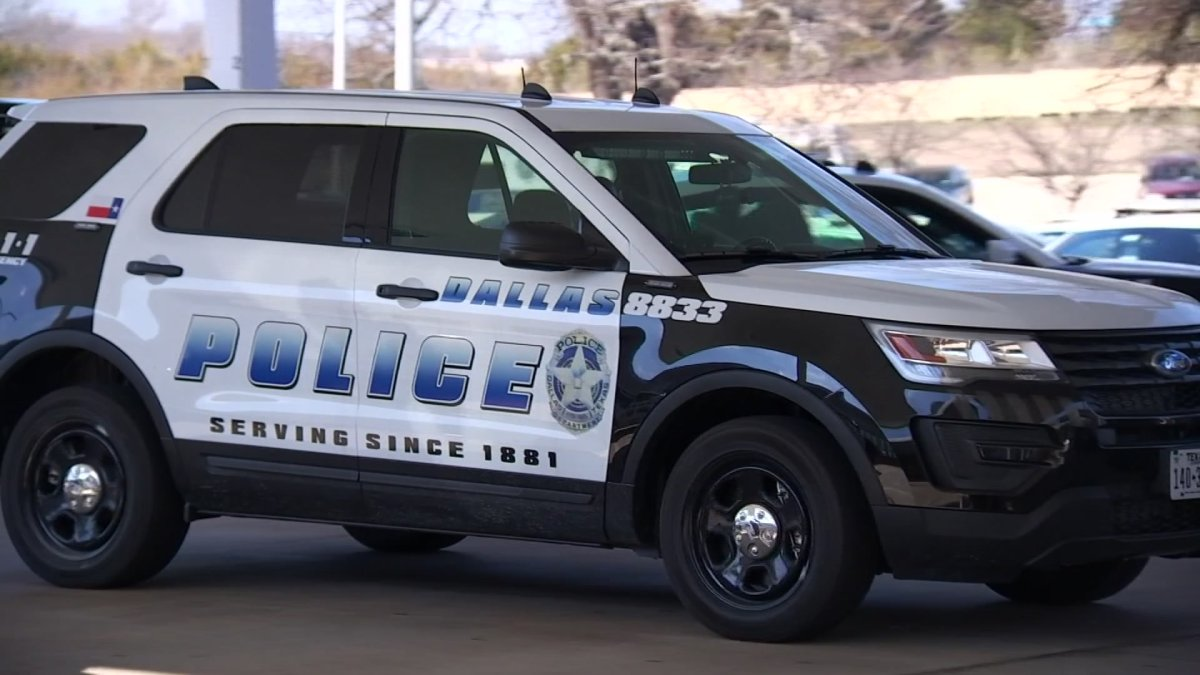special: (1, 79, 1200, 640)
